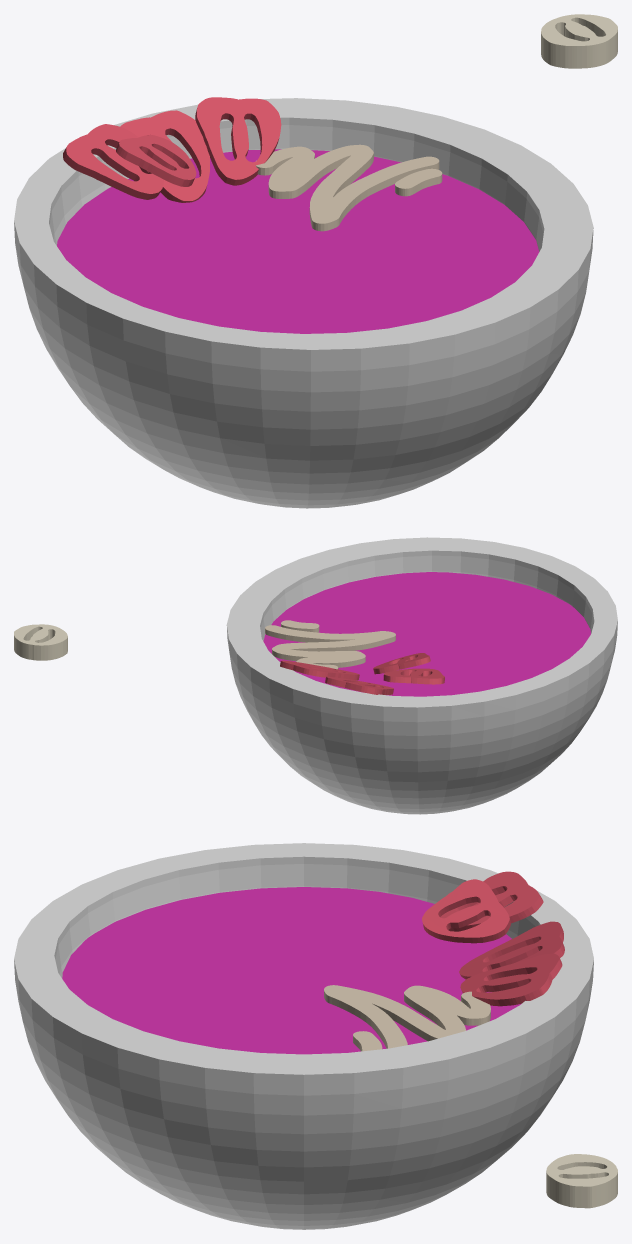
Rendered from Frances C Acai.glb.
The picture shows the model from 3 angles, top to bottom: view 1: azimuth 30°, elevation 25°; view 2: azimuth 150°, elevation 25°; view 3: azimuth 270°, elevation 25°; orthographic projection. The views are drawn at different scales.
Visible parts, largest first — view 1: Mesh_Mesh_head_geo.001_lambert2SG.001; view 2: Mesh_Mesh_head_geo.001_lambert2SG.001; view 3: Mesh_Mesh_head_geo.001_lambert2SG.001.
Part boxes in pixels (left/top/right/bottom): Mesh_Mesh_head_geo.001_lambert2SG.001: left=14, top=14, right=617, bottom=508; Mesh_Mesh_head_geo.001_lambert2SG.001: left=14, top=537, right=617, bottom=814; Mesh_Mesh_head_geo.001_lambert2SG.001: left=14, top=843, right=617, bottom=1229.
Size of the model in its own units: 0.098 by 0.0389 by 0.076.
